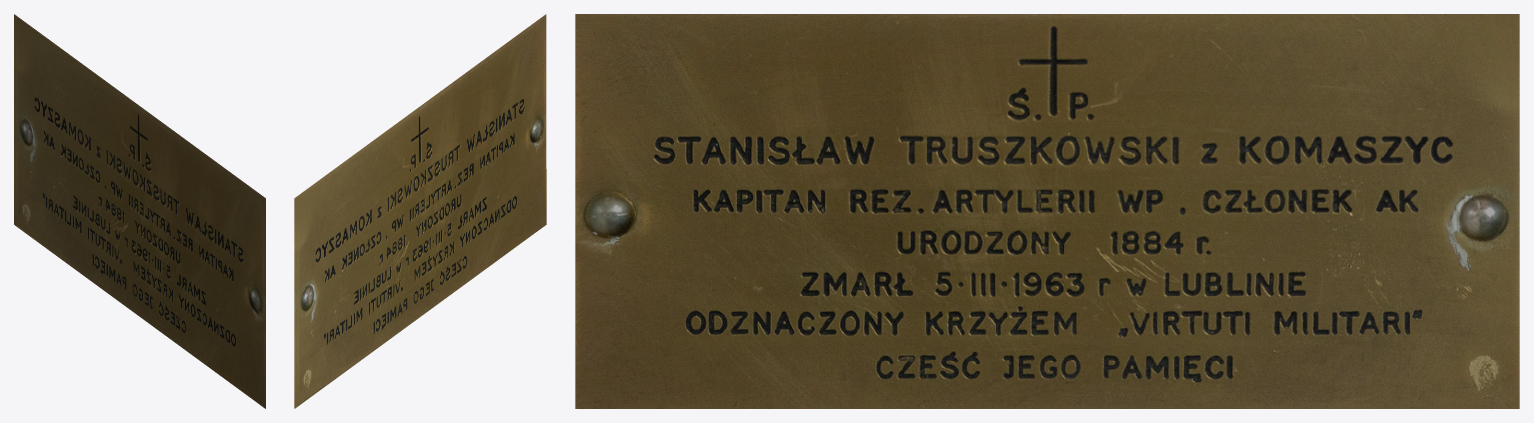
File: 107. Ś.P. STANISŁAW TRUSZKOWSKI z KOMASZYC.glb
3 renders of one model, left to right at view 1: azimuth 30°, elevation 25°; view 2: azimuth 150°, elevation 25°; view 3: azimuth 270°, elevation 25°, orthographic. The views are drawn at different scales.
Parts seen in each view (by area): view 1: Plane; view 2: Plane; view 3: Plane.
Boxes of the visible parts, x1,y1,x2,y2 form: Plane: (14,14,265,408); Plane: (294,14,546,408); Plane: (575,14,1519,408).
Size of the model in its own units: 0.0102 by 6 by 13.
1 material, 1 textured.
